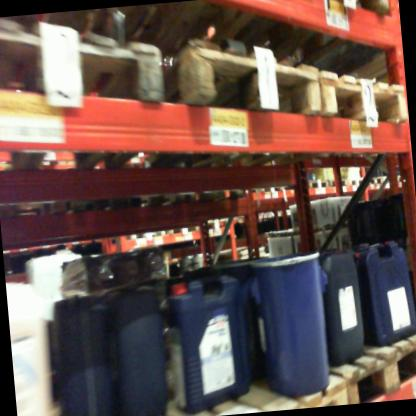pallet: (100, 22, 335, 227), (0, 9, 180, 175), (227, 0, 405, 146), (163, 350, 357, 416), (322, 325, 416, 404), (163, 217, 202, 242), (130, 223, 167, 245), (299, 172, 330, 194), (203, 214, 235, 230), (380, 167, 402, 190), (346, 170, 370, 189), (329, 172, 350, 193), (261, 182, 284, 201), (369, 172, 382, 188)
